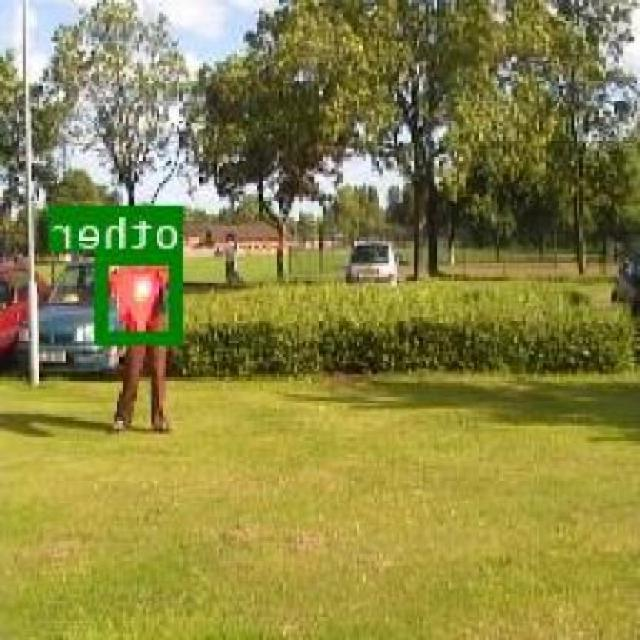other: (98, 249, 186, 342)
